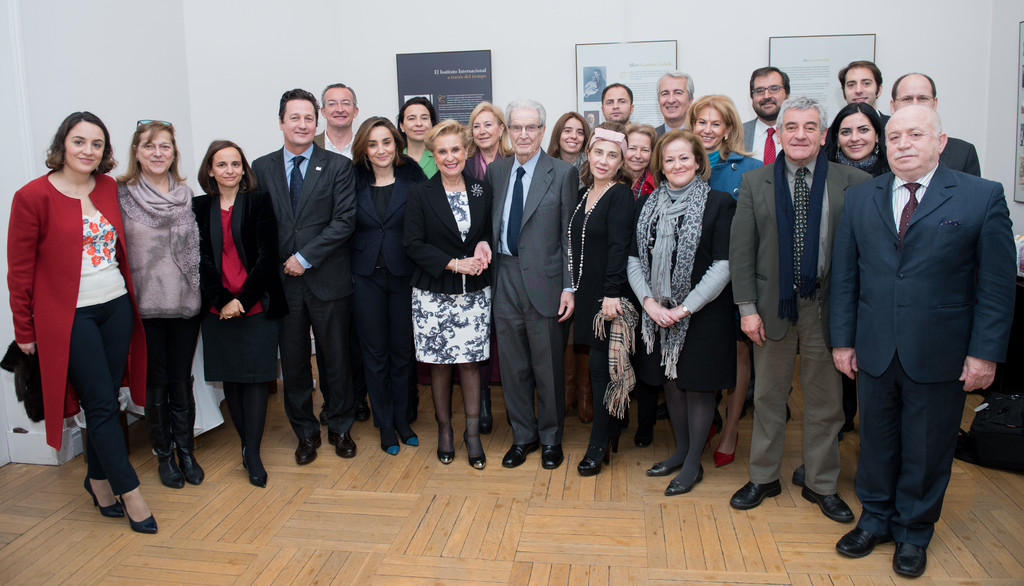Human-face: (63, 70, 947, 185), (35, 110, 104, 181)
